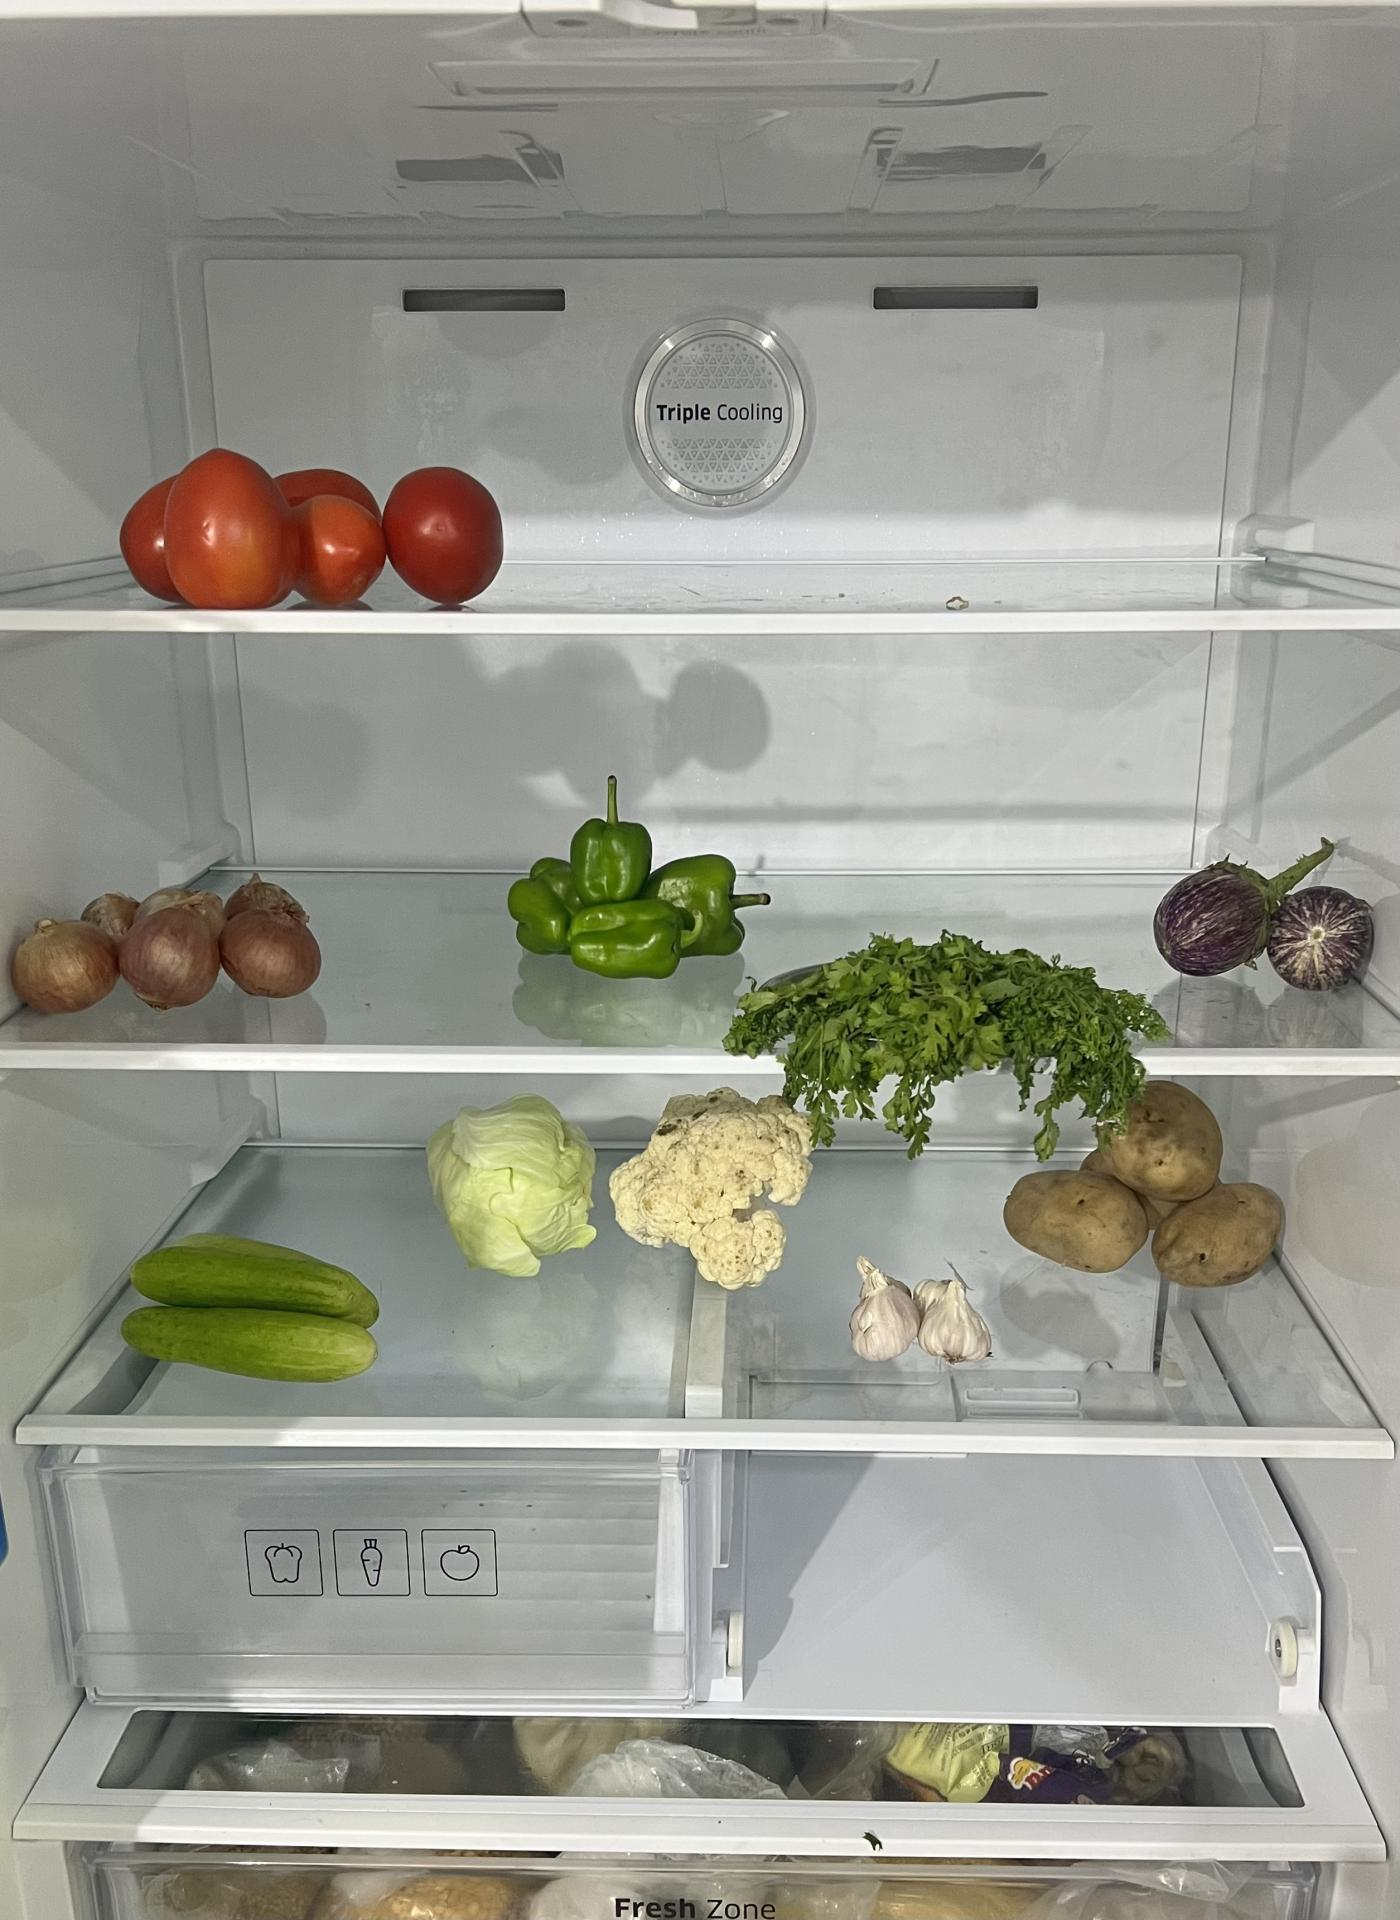brinjal: (1145, 856, 1390, 991)
cabbage: (428, 1090, 601, 1270)
capsicum: (511, 809, 748, 973)
cauliflower: (616, 1093, 819, 1292)
coriander: (731, 939, 1155, 1112)
cucumber: (112, 1240, 391, 1386)
garlic: (851, 1255, 994, 1365)
onion: (15, 872, 332, 1008)
potato: (1005, 1075, 1288, 1279)
tomato: (121, 459, 514, 617)
